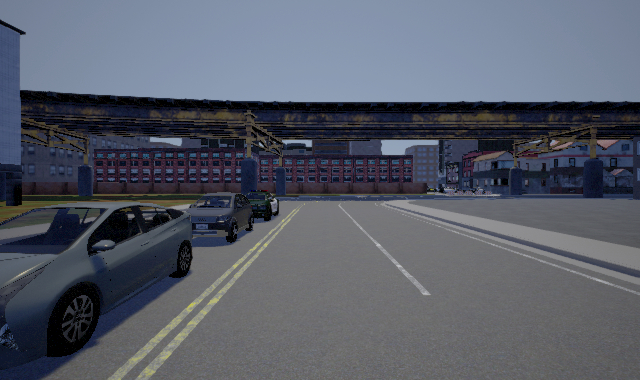vehicle: (1, 199, 194, 370), (185, 191, 252, 244), (242, 190, 278, 220)
